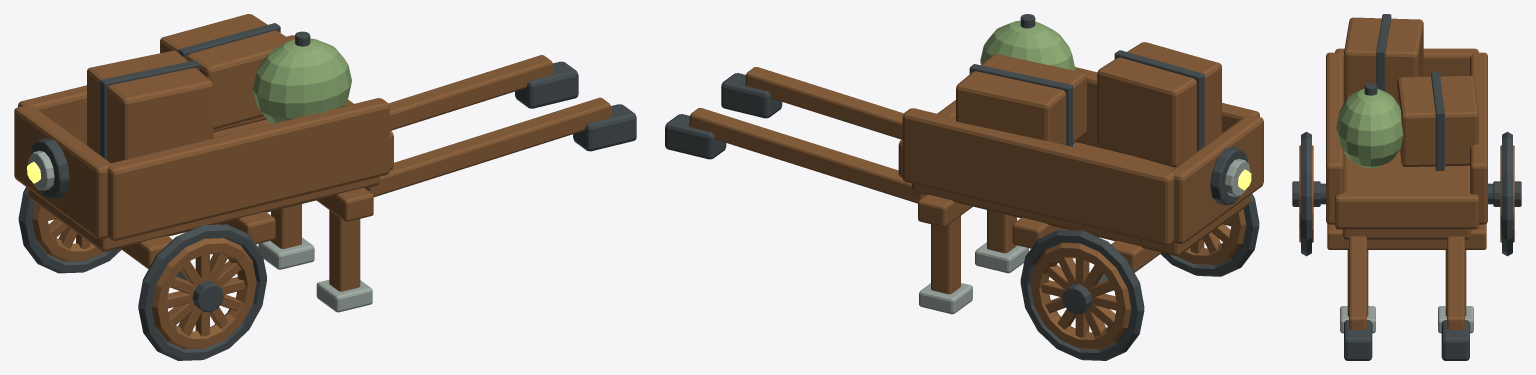
The model's file is SM_EmbermereFenwatchHandcart_01.fbx.
The picture shows the model from 3 angles, left to right: view 1: azimuth 30°, elevation 25°; view 2: azimuth 150°, elevation 25°; view 3: azimuth 270°, elevation 25°; orthographic projection. The views are drawn at different scales.
Parts seen in each view (by area): view 1: SM_EmbermereFenwatchHandcart_01; view 2: SM_EmbermereFenwatchHandcart_01; view 3: SM_EmbermereFenwatchHandcart_01.
Part boxes in pixels (left/top/right/bottom): SM_EmbermereFenwatchHandcart_01: left=14, top=14, right=636, bottom=360; SM_EmbermereFenwatchHandcart_01: left=665, top=14, right=1263, bottom=360; SM_EmbermereFenwatchHandcart_01: left=1292, top=14, right=1521, bottom=360.
Size of what is drawn, in the model's own units: 431 by 178 by 194.
